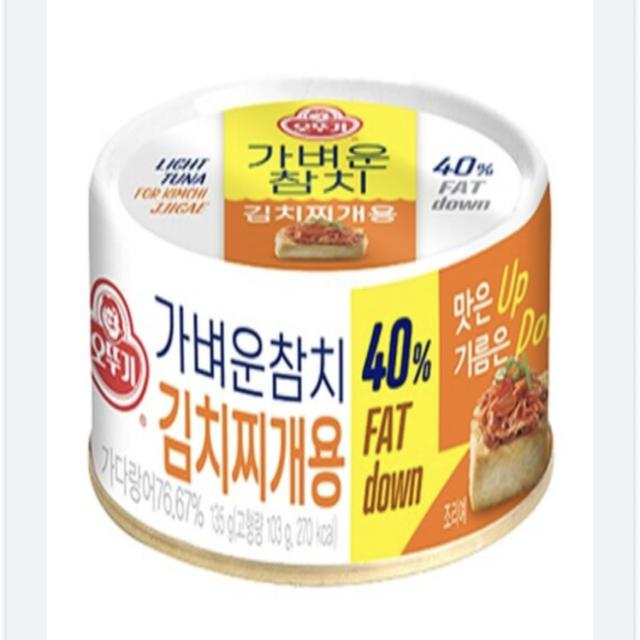recyclable: (73, 52, 574, 599)
